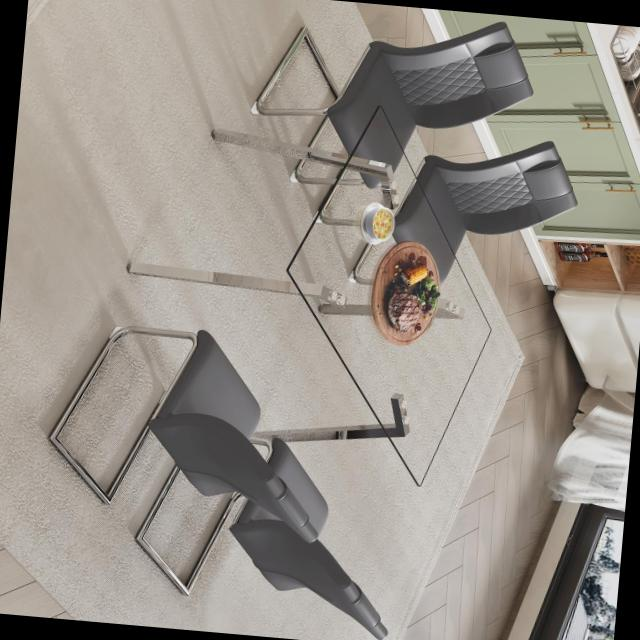glass: (212, 79, 526, 551)
